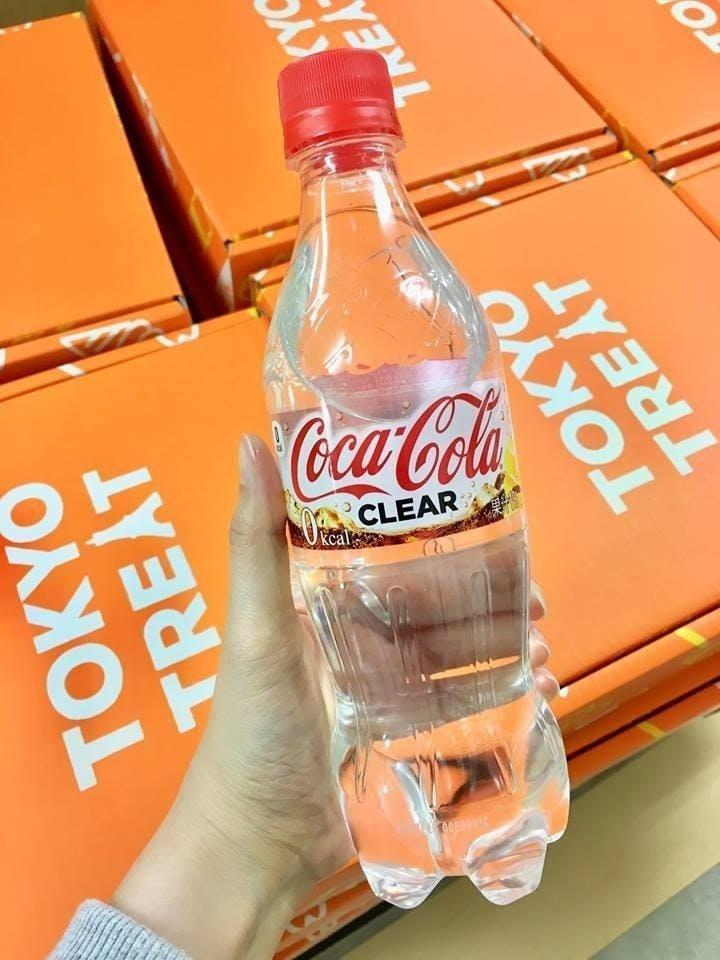bottle-plastic: (259, 40, 572, 911)
